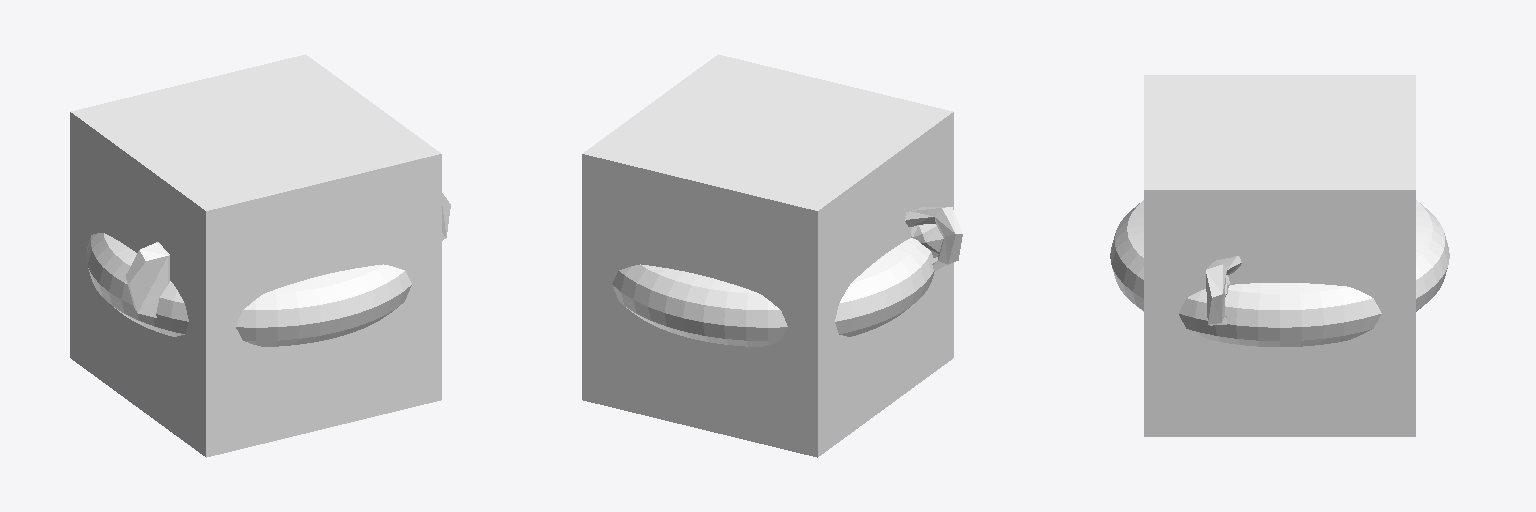
File: Primatives.obj
3 views of the same model, side by side, from view 1: azimuth 30°, elevation 25°; view 2: azimuth 150°, elevation 25°; view 3: azimuth 270°, elevation 25° (orthographic).
Parts seen in each view (by area): view 1: Cube, Cylinder, Torus, Suzanne; view 2: Cube, Torus, Cylinder, Suzanne; view 3: Cube, Cylinder, Torus, Suzanne.
Part boxes in pixels (x1,y1,x2,y2): Cube: (70,54,441,457); Cylinder: (121,75,389,189); Torus: (86,233,411,346); Suzanne: (126,193,450,317); Cube: (582,54,953,457); Torus: (612,238,934,346); Cylinder: (634,75,902,189); Suzanne: (905,207,962,270); Cube: (1144,75,1415,436); Cylinder: (1145,75,1414,187); Torus: (1110,200,1449,346); Suzanne: (1206,256,1241,325).
Size of the model in its own units: 2.73 by 2 by 2.5.